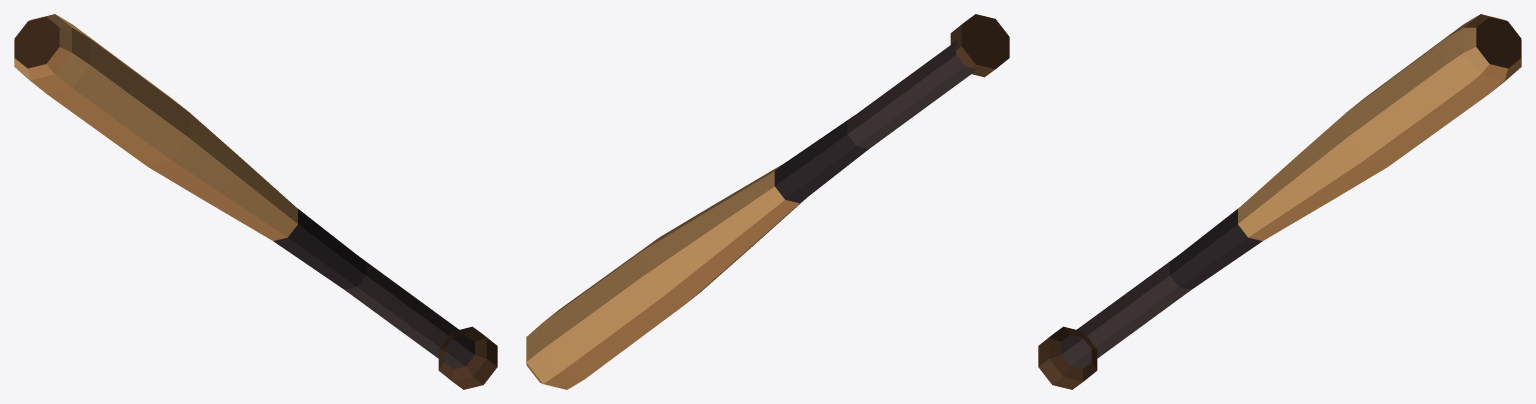
File: bat.glb
3 views of the same model, side by side, from view 1: azimuth 30°, elevation 25°; view 2: azimuth 150°, elevation 25°; view 3: azimuth 330°, elevation 25° (orthographic).
Parts seen in each view (by area): view 1: Bat; view 2: Bat; view 3: Bat.
Part boxes in pixels (bbox=[...]): Bat: bbox=[14, 14, 497, 389]; Bat: bbox=[526, 14, 1009, 389]; Bat: bbox=[1038, 14, 1521, 389].
Bounding box in the file's own units: 0.0702 × 0.0702 × 0.87.
